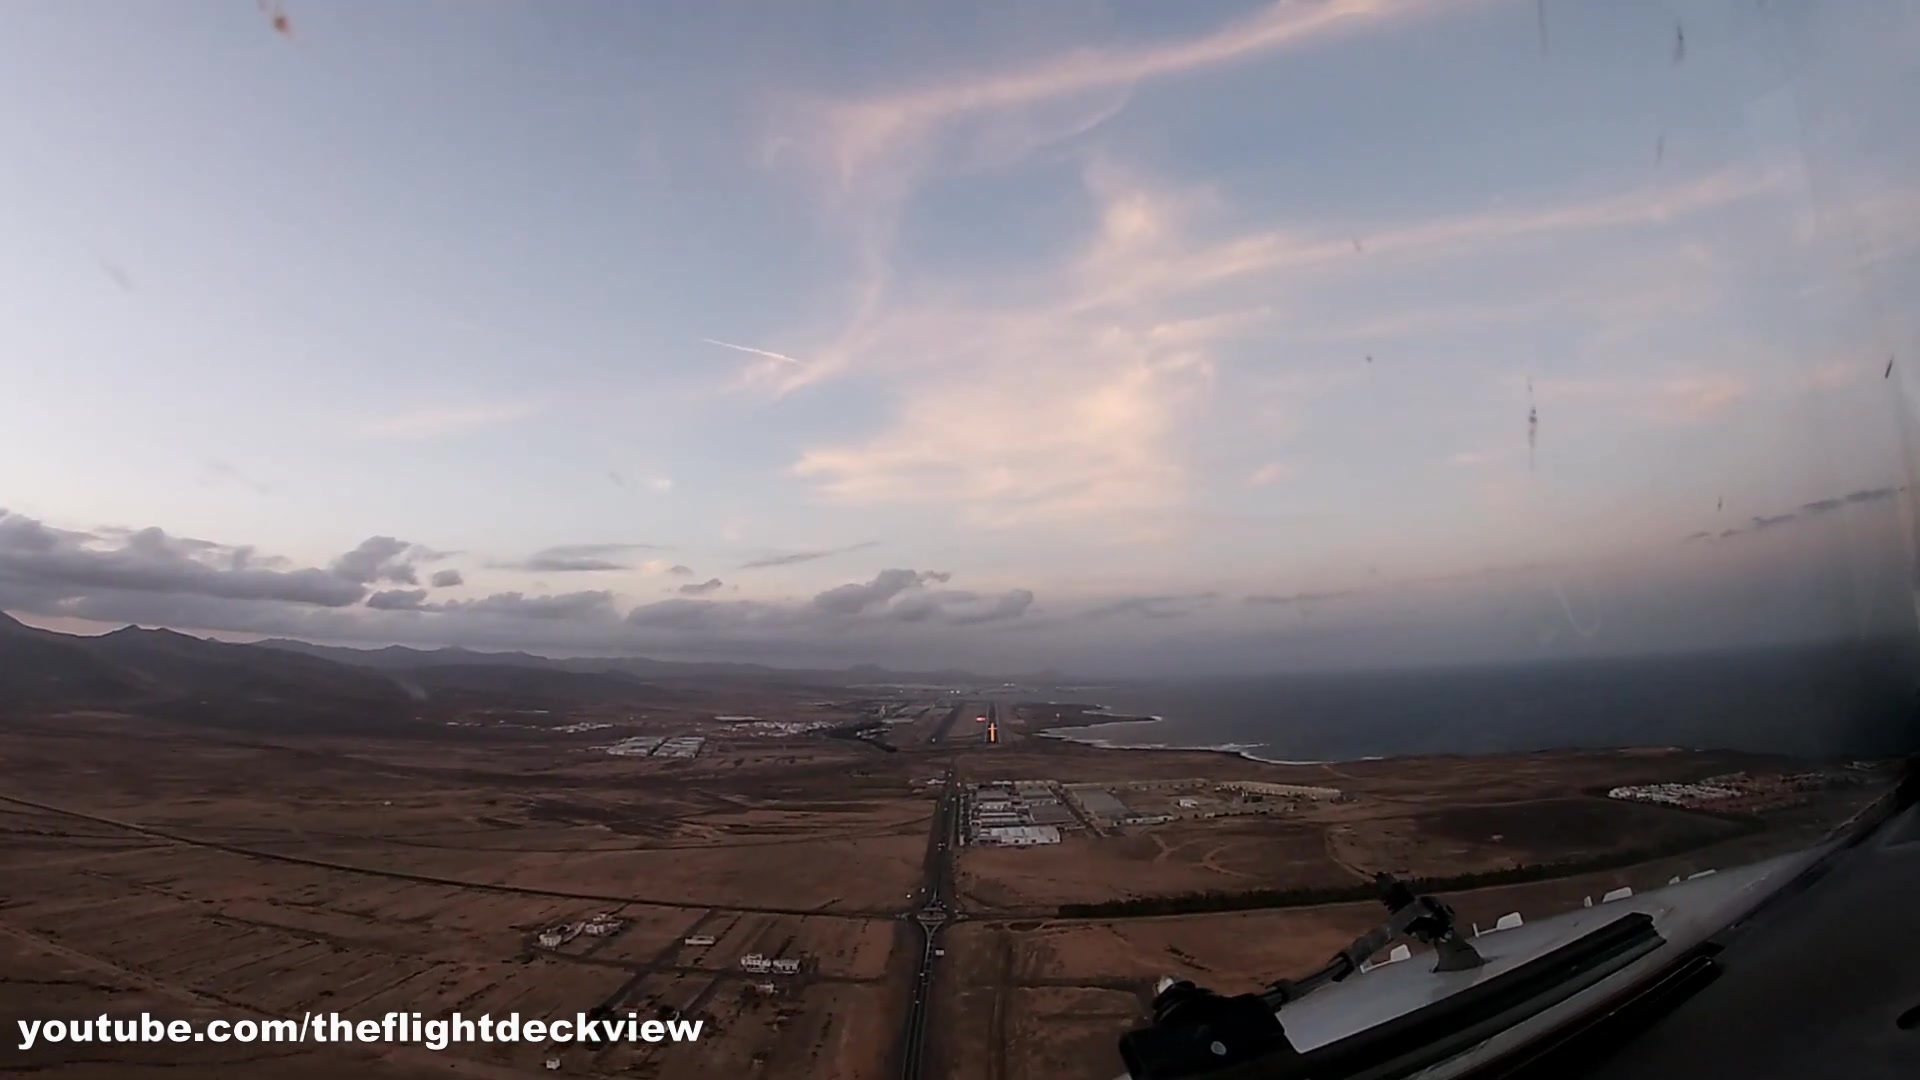runway: (982, 703, 1001, 744)
